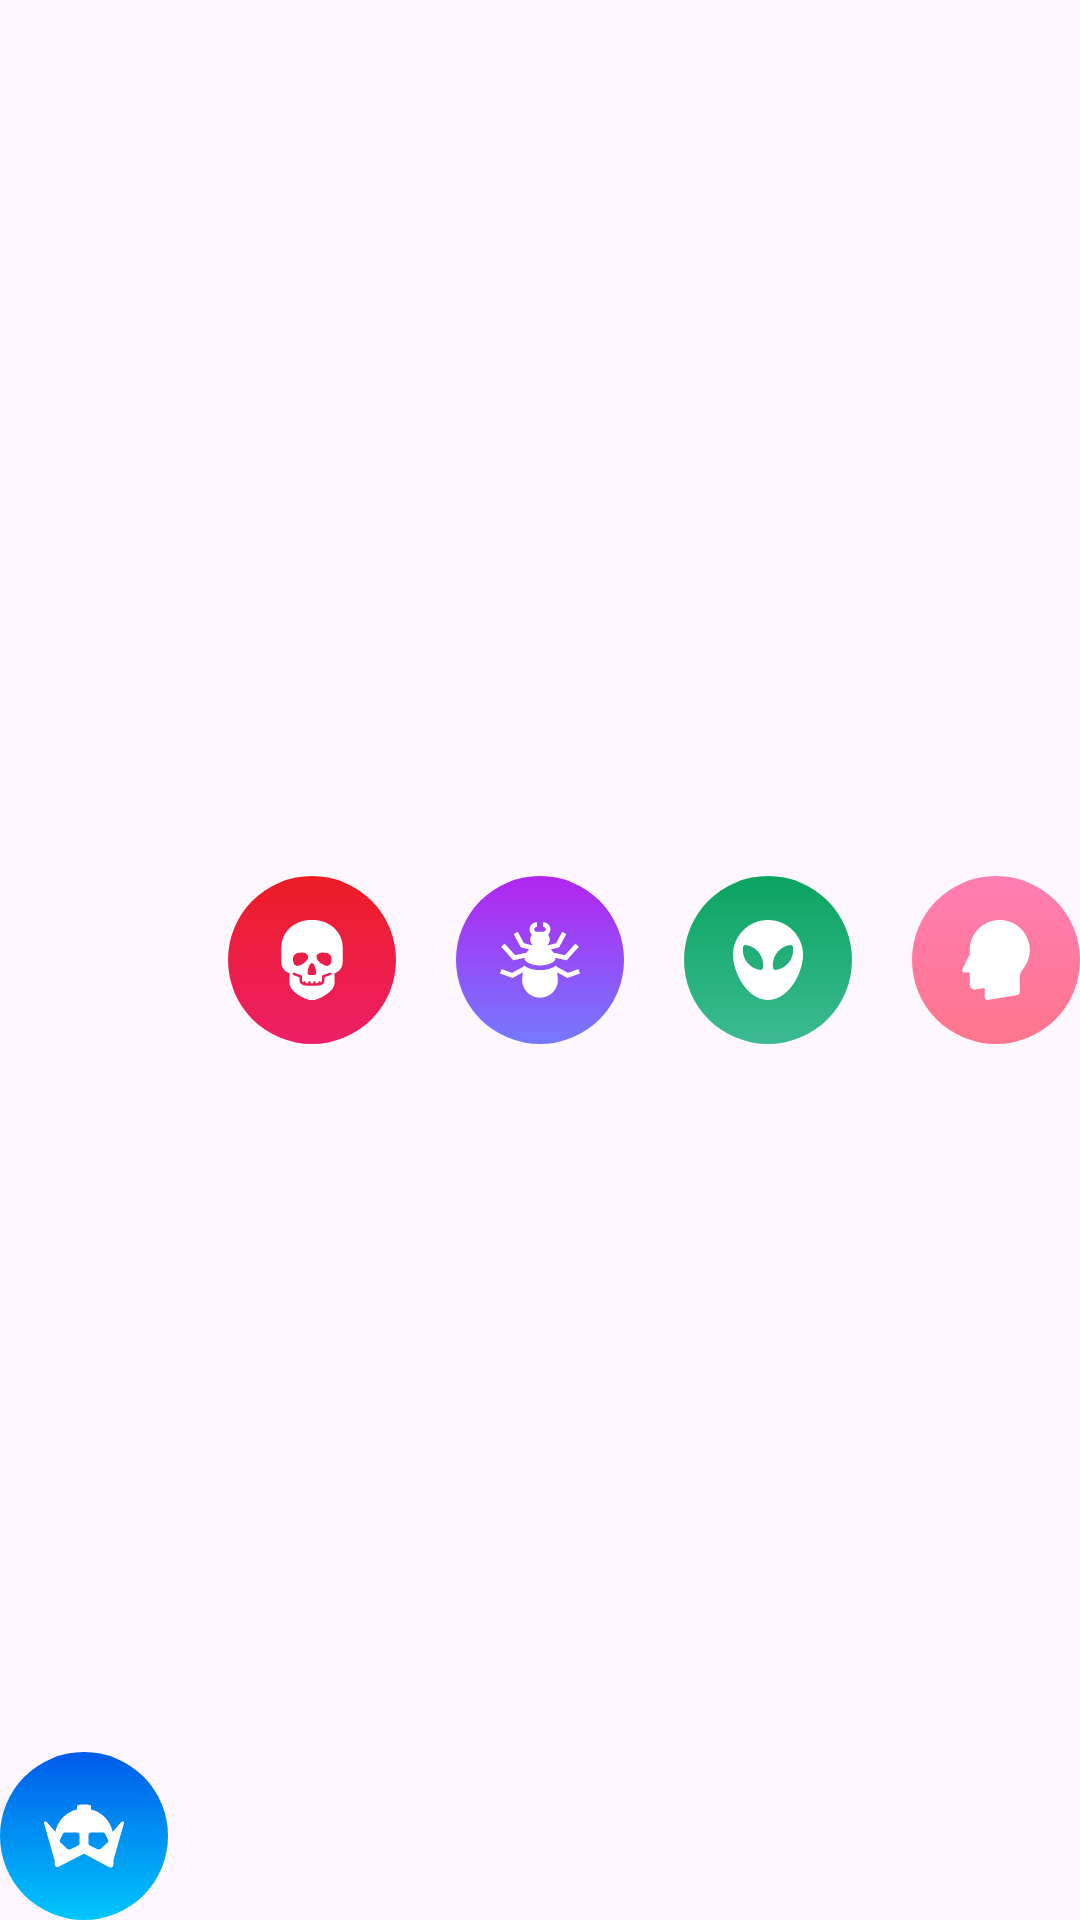

Point at icon controls on the screen. Image size 1080x1920, points as point (x, y).
alien: point (768, 960)
hero: point (84, 1836)
human: point (996, 960)
villain: point (312, 960)
